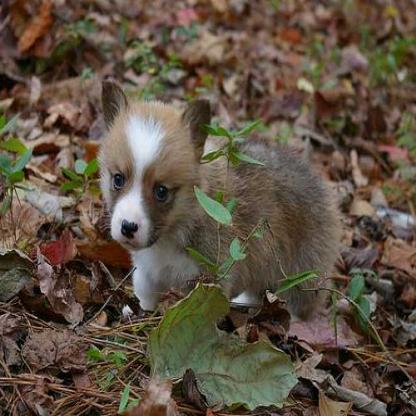Pembroke: (95, 74, 337, 319)
